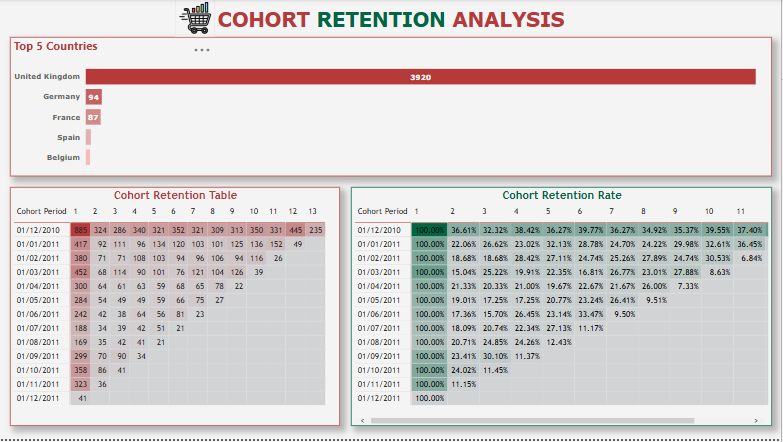

Layout of this report page (visuals, bound fields, positions):
{"tool":"powerbi","page":{"name":"Page 1","canvas":[1280,720],"ordinal":0},"visuals":[{"type":"pivotTable","title":"Cohort Retention Table","fields":{"Columns":["Cohort Retention.Cohort_index"],"Rows":["Cohort Retention.Cohort Period"],"Values":["Count(Cohort Retention.CustomerID)"]},"box":[18,307.7,540.2,391.2],"z":0},{"type":"pivotTable","title":"Cohort Retention Rate","fields":{"Columns":["Cohort Retention.Cohort_index"],"Rows":["Cohort Retention.Cohort Period"],"Values":["CountNonNull(Cohort Retention.CustomerID)"]},"box":[576.2,307.7,689.1,391.2],"z":1000},{"type":"barChart","title":"Top 5 Countries","fields":{"Category":["Cohort Retention.Country"],"Y":["Count(Cohort Retention.CustomerID)"],"Series":["Cohort Retention.Country"]},"box":[18,62.2,1247.3,227.5],"z":2000},{"type":"textbox","box":[309.4,8.2,664.6,62.2],"z":3000},{"type":"image","box":[288.1,0,65.5,62.2],"z":4000},{"type":"actionButton","box":[1221.1,4.9,44.2,50.7],"z":5000}]}

Visuals, with their boxes in screenshot pixels (x1, y1, x2, y2), scaled from the page's 1280x720 canvas onto the 783x442 screenshot:
"Cohort Retention Table" pivotTable: {"left": 11, "top": 189, "right": 341, "bottom": 429}
"Cohort Retention Rate" pivotTable: {"left": 352, "top": 189, "right": 774, "bottom": 429}
"Top 5 Countries" barChart: {"left": 11, "top": 38, "right": 774, "bottom": 178}
textbox: {"left": 189, "top": 5, "right": 596, "bottom": 43}
image: {"left": 176, "top": 0, "right": 216, "bottom": 38}
actionButton: {"left": 747, "top": 3, "right": 774, "bottom": 34}
